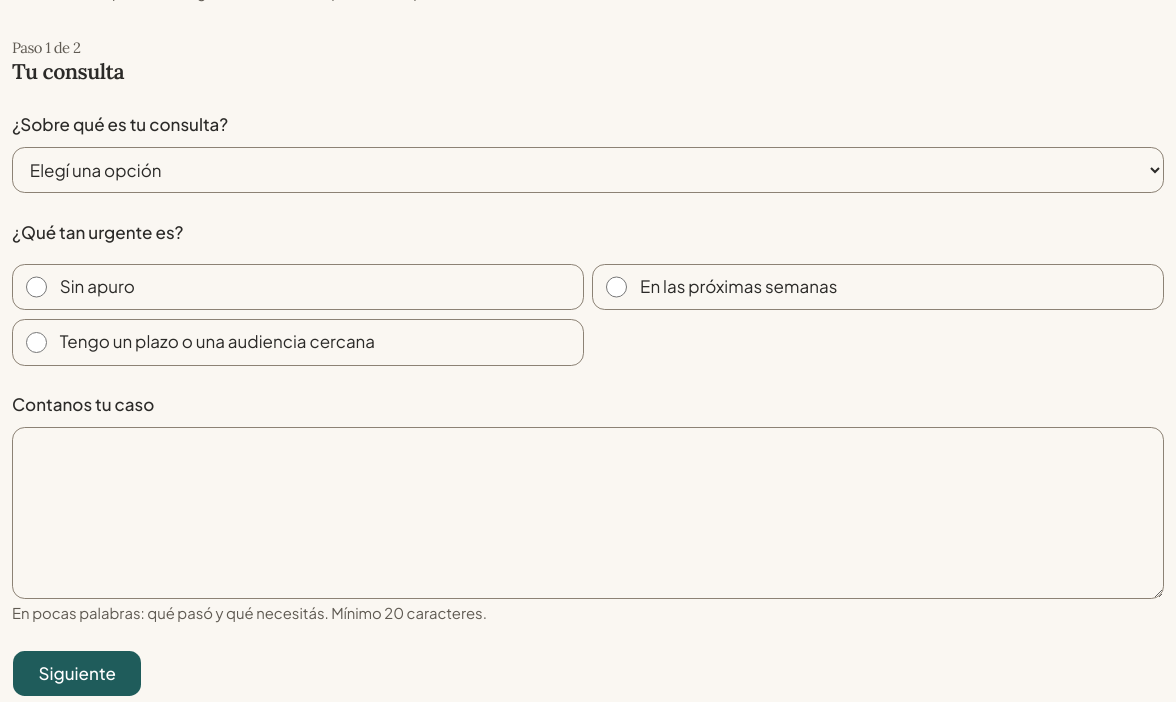
Test: InquiryForm (US-03) › steps (CA1) › advances with a valid step 1, focuses step 2, and going back keeps everything
Select "Divorcio" in the dropdown labelled "¿Sobre qué es tu consulta?" at (588, 170), box [12,147,1164,194]
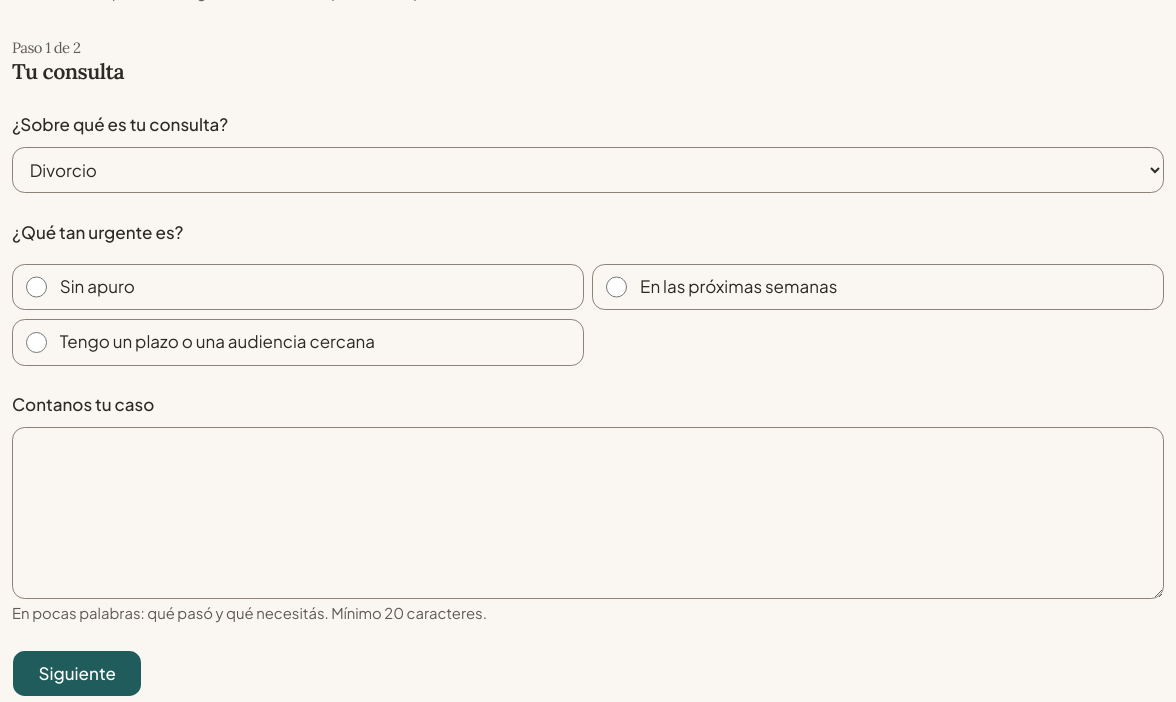
Click the radio button labelled "En las próximas semanas" at (617, 287), box [606,276,627,298]
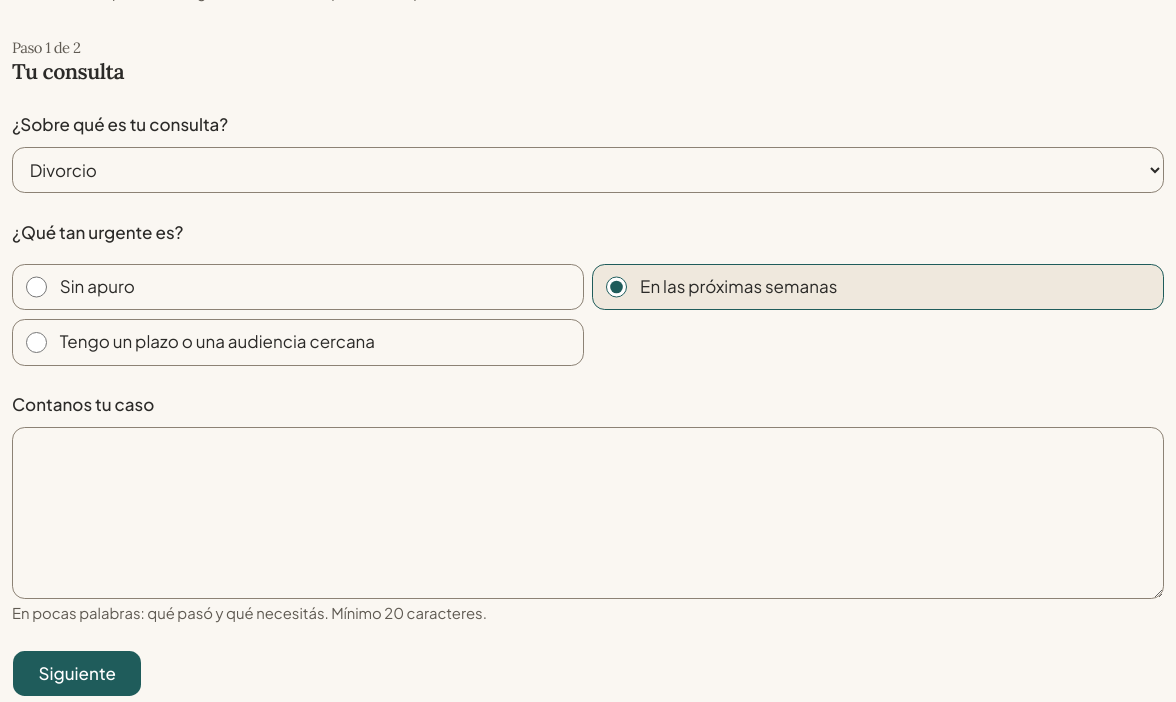
Type "Nos estamos separando y queremos acordar el cuidado de los chicos." into the text box labelled "Contanos tu caso" at (588, 513), box [12,427,1164,599]
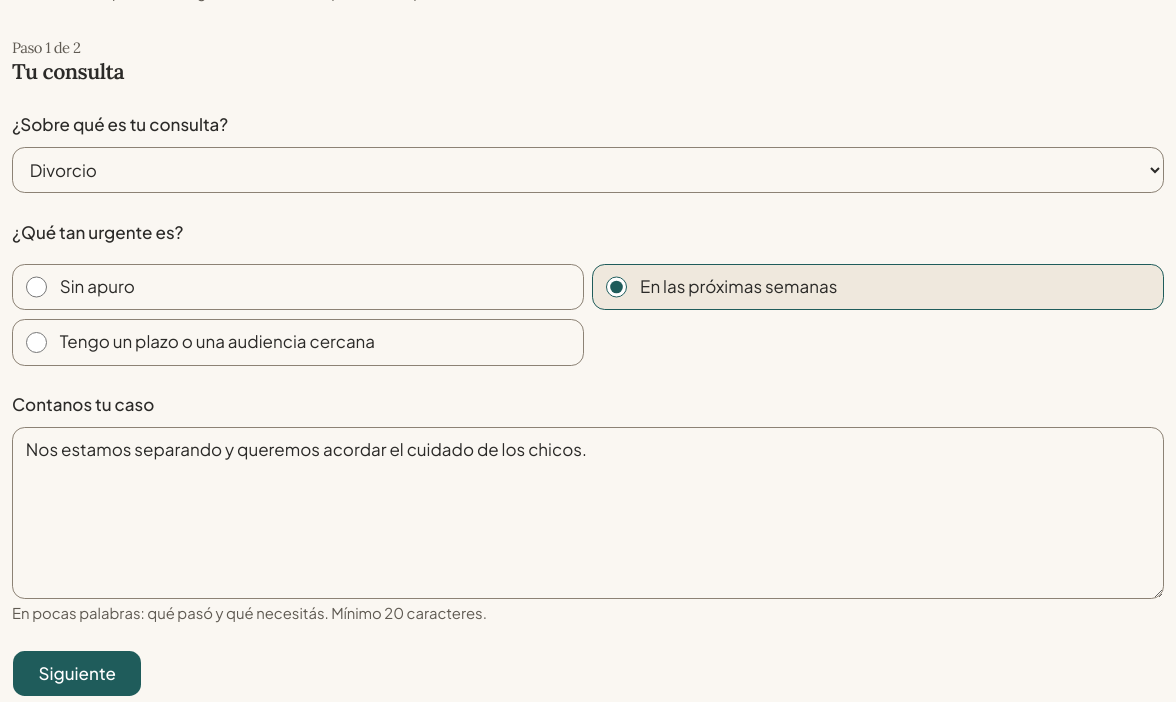
Click the button "Siguiente" at (77, 674), box [12,650,142,697]
(page scrolled)
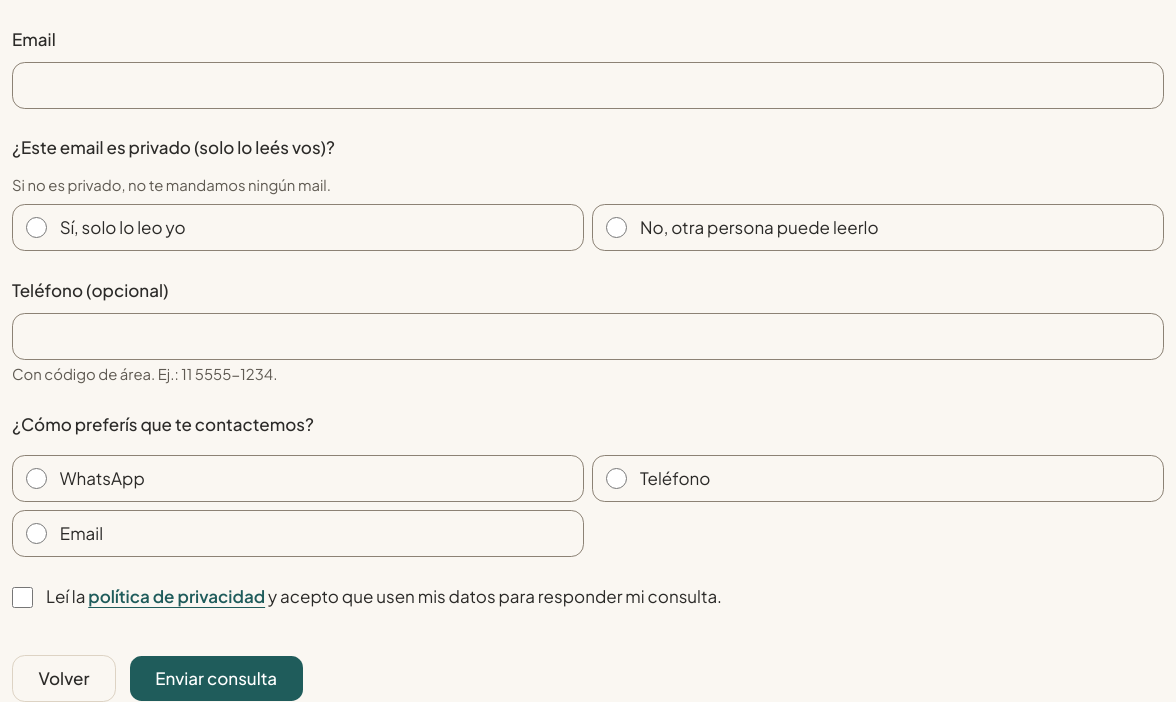
Click the button "Volver" at (64, 678), box [12,655,116,701]
(page scrolled)
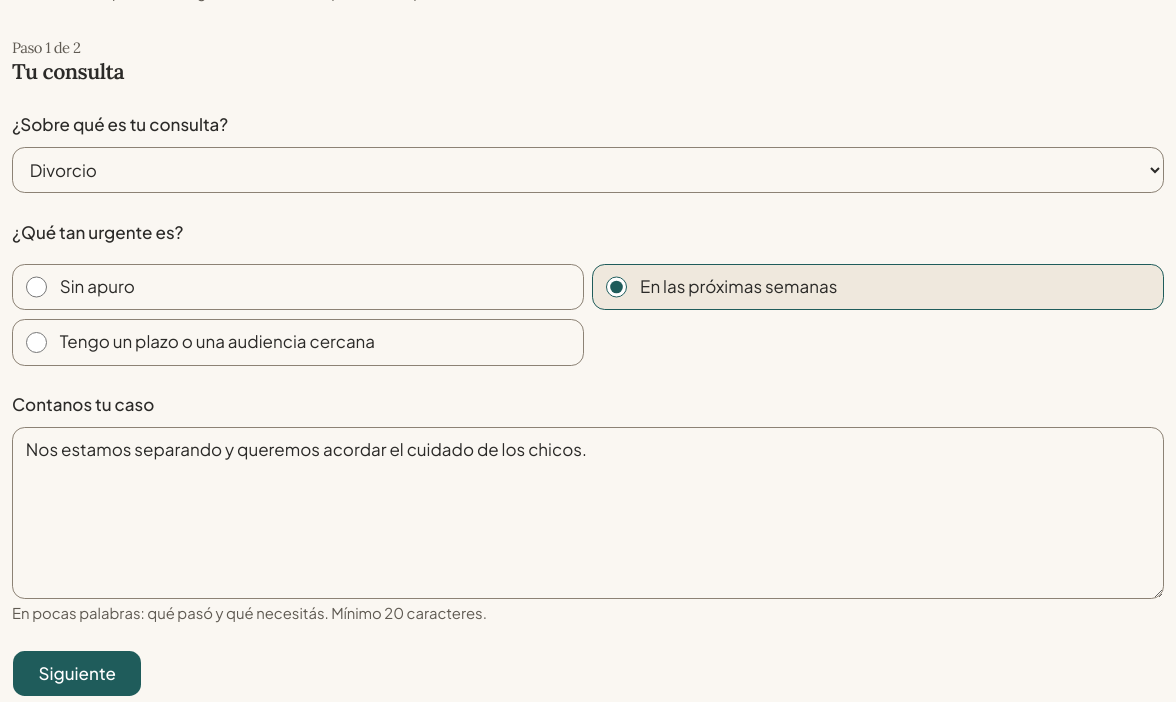
Expected: the element "Tu consulta" is shown
